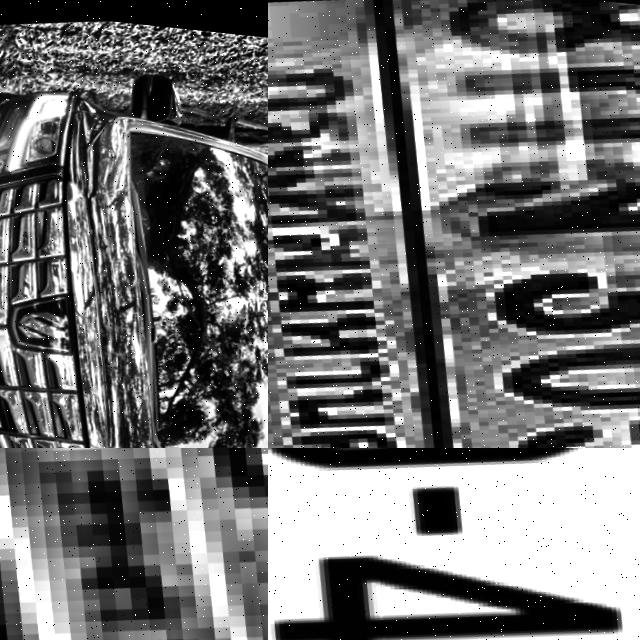license-plate: (268, 0, 640, 448), (268, 448, 640, 640), (0, 448, 268, 640)
